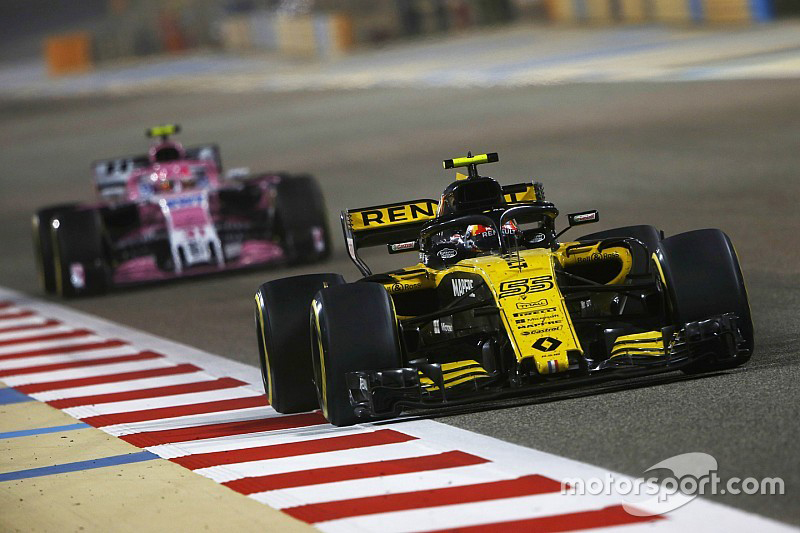F1 Car: (251, 146, 760, 429), (23, 119, 336, 303)
